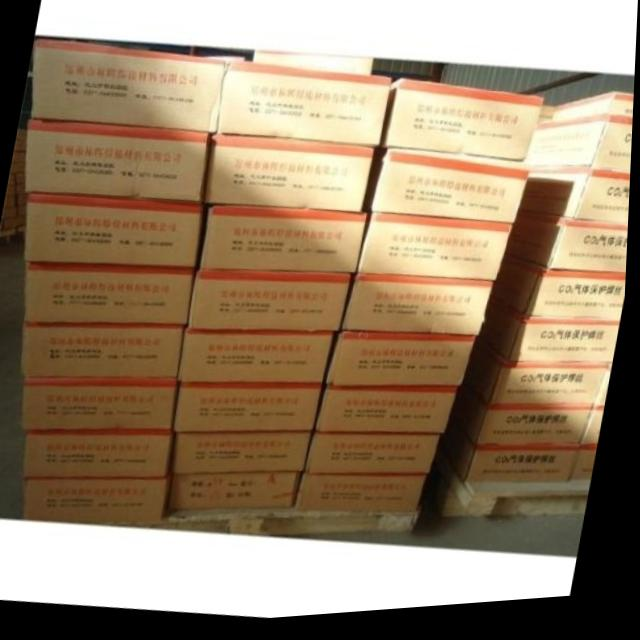box: (31, 39, 226, 137), (26, 120, 213, 206), (219, 64, 394, 153), (382, 84, 545, 170), (26, 194, 209, 270), (205, 137, 376, 218), (367, 154, 531, 233), (202, 208, 369, 280), (27, 263, 200, 328), (360, 219, 515, 290), (191, 273, 353, 337), (23, 322, 190, 383), (466, 348, 614, 416), (344, 280, 498, 344), (442, 427, 587, 492), (493, 262, 629, 330), (481, 309, 624, 373), (182, 332, 339, 390), (453, 391, 597, 454), (25, 379, 182, 433), (329, 337, 479, 393), (508, 219, 630, 284), (26, 432, 181, 481), (179, 386, 325, 436), (26, 479, 174, 528), (320, 391, 462, 440), (520, 172, 632, 234), (527, 123, 634, 183), (176, 435, 316, 477), (311, 438, 446, 481), (299, 476, 431, 519), (172, 477, 306, 514), (554, 101, 635, 130)
